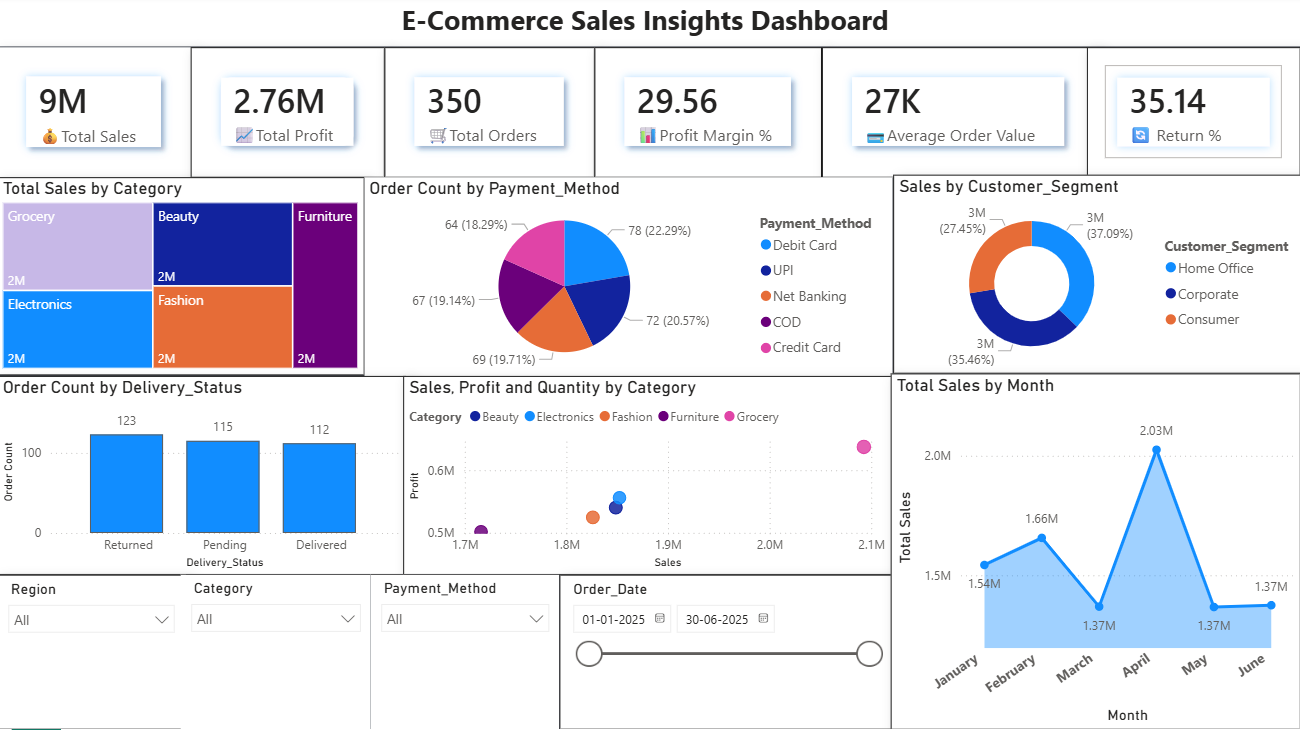

This screenshot's page, from the dashboard's own definition file:
{"tool":"powerbi","page":{"name":"Page 1","canvas":[1280,720],"ordinal":0},"visuals":[{"type":"textbox","box":[0,0,1280,49.8],"z":0},{"type":"cardVisual","fields":{"Data":["ecommerce_sales_dataset.Total Sales"]},"box":[0,50.3,190.2,127.6],"z":1000},{"type":"cardVisual","fields":{"Data":["ecommerce_sales_dataset.Total Profit"]},"box":[190.2,50.3,190.2,127.6],"z":2000},{"type":"cardVisual","fields":{"Data":["ecommerce_sales_dataset.Total Orders"]},"box":[380.4,50.3,206.1,127.6],"z":3000},{"type":"cardVisual","fields":{"Data":["ecommerce_sales_dataset.Profit Margin %"]},"box":[586.5,50.3,223.3,127.6],"z":4000},{"type":"cardVisual","fields":{"Data":["ecommerce_sales_dataset.AOV"]},"box":[809.8,50.3,268.7,127.6],"z":5000},{"type":"cardVisual","fields":{"Data":["ecommerce_sales_dataset.Return %"]},"box":[1069.9,50.3,209.8,127.6],"z":6000},{"type":"treemap","fields":{"Group":["ecommerce_sales_dataset.Category"],"Values":["ecommerce_sales_dataset.Total Sales"]},"box":[0,177.9,360.7,194.1],"z":7000},{"type":"donutChart","fields":{"Category":["ecommerce_sales_dataset.Customer_Segment"],"Y":["Sum(ecommerce_sales_dataset.Sales)"]},"box":[879.5,175.4,400.6,195.3],"z":8000},{"type":"pieChart","fields":{"Category":["ecommerce_sales_dataset.Payment_Method"],"Y":["ecommerce_sales_dataset.Order Count"]},"box":[360.7,177.9,518.7,195.3],"z":9000},{"type":"clusteredColumnChart","fields":{"Category":["ecommerce_sales_dataset.Delivery_Status"],"Y":["ecommerce_sales_dataset.Order Count"]},"box":[0,373.2,400.6,195.3],"z":10000},{"type":"scatterChart","fields":{"X":["Sum(ecommerce_sales_dataset.Sales)"],"Y":["Sum(ecommerce_sales_dataset.Profit)"],"Size":["Sum(ecommerce_sales_dataset.Quantity)"],"Series":["ecommerce_sales_dataset.Category"]},"box":[398.8,373,479.8,195.1],"z":11000},{"type":"slicer","fields":{"Values":["ecommerce_sales_dataset.Region"]},"box":[0,568.1,185,152.1],"z":12000},{"type":"slicer","fields":{"Values":["ecommerce_sales_dataset.Order_Date"]},"box":[552.2,568.1,326.4,152.1],"z":15000},{"type":"lineChart","fields":{"Category":["ecommerce_sales_dataset.Order_Date.Variation.Date Hierarchy.Month"],"Y":["ecommerce_sales_dataset.Total Sales"]},"box":[877.3,370.6,402.5,349.7],"z":16000},{"type":"slicer","fields":{"Values":["ecommerce_sales_dataset.Category"]},"box":[180.4,568.1,186.5,152.1],"z":16001},{"type":"slicer","fields":{"Values":["ecommerce_sales_dataset.Payment_Method"]},"box":[366.9,568.1,185,152.1],"z":16002}]}

Visuals, with their boxes in screenshot pixels (x1, y1, x2, y2), scaled from the page's 1280x720 canvas onto the 1300x730 screenshot:
textbox: box(0, 0, 1299, 50)
cardVisual - ecommerce_sales_dataset.Total Sales: box(0, 51, 193, 180)
cardVisual - ecommerce_sales_dataset.Total Profit: box(193, 51, 386, 180)
cardVisual - ecommerce_sales_dataset.Total Orders: box(386, 51, 596, 180)
cardVisual - ecommerce_sales_dataset.Profit Margin %: box(596, 51, 822, 180)
cardVisual - ecommerce_sales_dataset.AOV: box(822, 51, 1095, 180)
cardVisual - ecommerce_sales_dataset.Return %: box(1087, 51, 1299, 180)
treemap - ecommerce_sales_dataset.Category x ecommerce_sales_dataset.Total Sales: box(0, 180, 366, 377)
donutChart - ecommerce_sales_dataset.Customer_Segment x Sum(ecommerce_sales_dataset.Sales): box(893, 178, 1299, 376)
pieChart - ecommerce_sales_dataset.Payment_Method x ecommerce_sales_dataset.Order Count: box(366, 180, 893, 378)
clusteredColumnChart - ecommerce_sales_dataset.Delivery_Status x ecommerce_sales_dataset.Order Count: box(0, 378, 407, 576)
scatterChart - Sum(ecommerce_sales_dataset.Sales) x Sum(ecommerce_sales_dataset.Profit): box(405, 378, 892, 576)
slicer - ecommerce_sales_dataset.Region: box(0, 576, 188, 729)
slicer - ecommerce_sales_dataset.Order_Date: box(561, 576, 892, 729)
lineChart - ecommerce_sales_dataset.Order_Date.Variation.Date Hierarchy.Month x ecommerce_sales_dataset.Total Sales: box(891, 376, 1299, 729)
slicer - ecommerce_sales_dataset.Category: box(183, 576, 373, 729)
slicer - ecommerce_sales_dataset.Payment_Method: box(373, 576, 561, 729)
